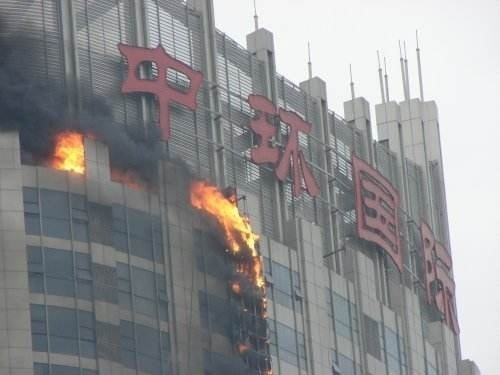fire: (186, 178, 271, 355), (51, 129, 89, 174)
